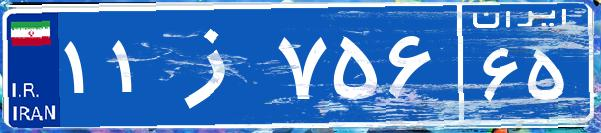1: (57, 26, 110, 107), (110, 28, 158, 105)
5: (330, 28, 385, 110), (525, 38, 570, 115)
6: (385, 28, 445, 110), (475, 38, 525, 113)
7: (273, 28, 330, 110)
ز: (158, 15, 273, 115)
